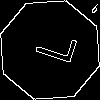L: (25, 25, 78, 66)
